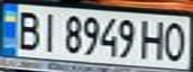4: (100, 15, 121, 57)
8: (60, 11, 84, 55)
9: (78, 12, 103, 56), (115, 16, 139, 60)
B: (12, 7, 42, 52)
H: (139, 17, 169, 61)
I: (36, 9, 60, 52)
O: (160, 19, 190, 62)
